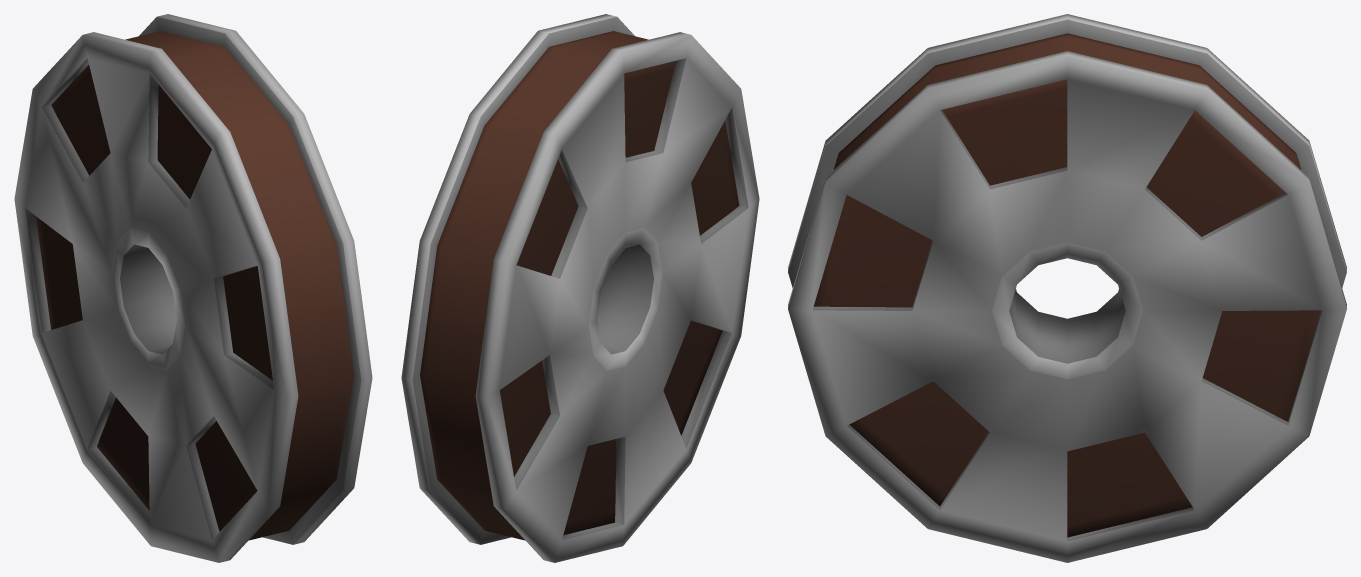
3 renders of one model, left to right at view 1: azimuth 30°, elevation 25°; view 2: azimuth 150°, elevation 25°; view 3: azimuth 270°, elevation 25°, orthographic. The views are drawn at different scales.
Visible parts, largest first — view 1: FilmReel; view 2: FilmReel; view 3: FilmReel.
Part boxes in pixels (x1,y1,x2,y2): FilmReel: [14, 14, 372, 562]; FilmReel: [401, 14, 759, 562]; FilmReel: [788, 14, 1346, 562].
Bounding box in the file's own units: 0.0954 × 0.5 × 0.5.
